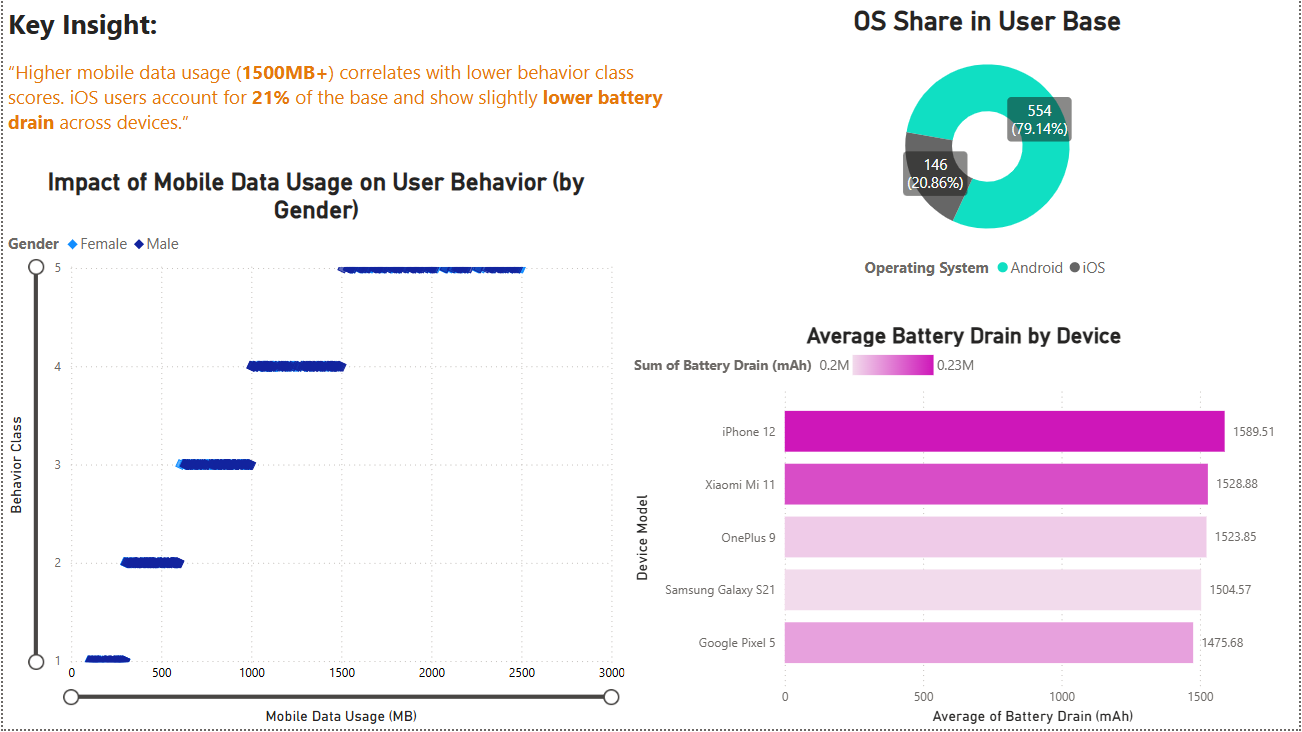

The page's visual inventory and layout, read from the dashboard file:
{"tool":"powerbi","page":{"name":"Behavior Correlation Analysis","canvas":[1280,720],"ordinal":1},"visuals":[{"type":"scatterChart","title":"Impact of Mobile Data Usage on User Behavior        (by Gender)","fields":{"X":["User Behaviour Data.Mobile Data Usage (MB)"],"Series":["User Behaviour Data.Gender"],"Y":["User Behaviour Data.Behavior Class"]},"box":[0,160.5,618.5,559.3],"z":0},{"type":"barChart","title":"Average Battery Drain by Device","fields":{"Category":["User Behaviour Data.Device Model"],"Y":["Avg(User Behaviour Data.Battery Drain (mAh))"]},"box":[618.6,318.6,661.4,401.4],"z":1000},{"type":"donutChart","title":"OS Share in User Base","fields":{"Category":["User Behaviour Data.Operating System"],"Y":["CountNonNull(User Behaviour Data.User ID)"]},"box":[707.5,0,530,283.8],"z":2000},{"type":"textbox","box":[0,0,683.8,142.5],"z":3000}]}

Visuals, with their boxes in screenshot pixels (x1, y1, x2, y2), scaled from the page's 1280x720 canvas onto the 1302x732 screenshot:
"Impact of Mobile Data Usage on User Behavior        (by Gender)" scatterChart: {"x1": 0, "y1": 163, "x2": 629, "y2": 731}
"Average Battery Drain by Device" barChart: {"x1": 629, "y1": 324, "x2": 1301, "y2": 731}
"OS Share in User Base" donutChart: {"x1": 720, "y1": 0, "x2": 1259, "y2": 289}
textbox: {"x1": 0, "y1": 0, "x2": 696, "y2": 145}
